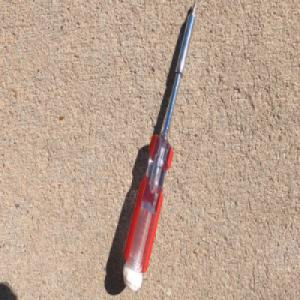Screwdriver: (121, 0, 197, 291)
